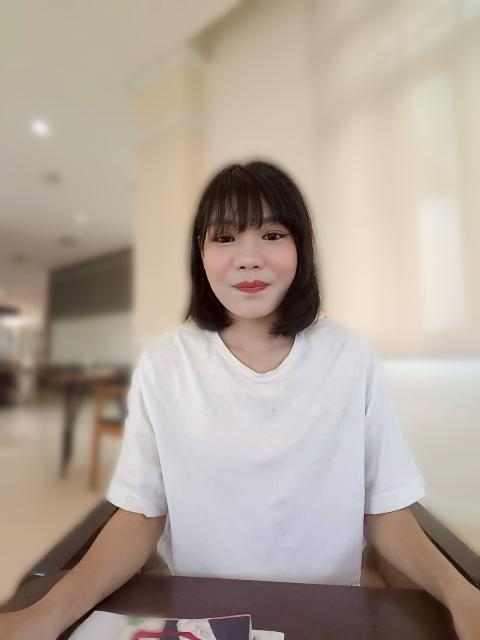fokus: (205, 184, 296, 324)
